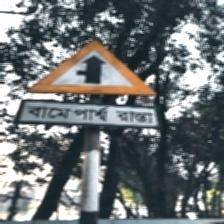Side-road-left: (18, 38, 159, 130)
